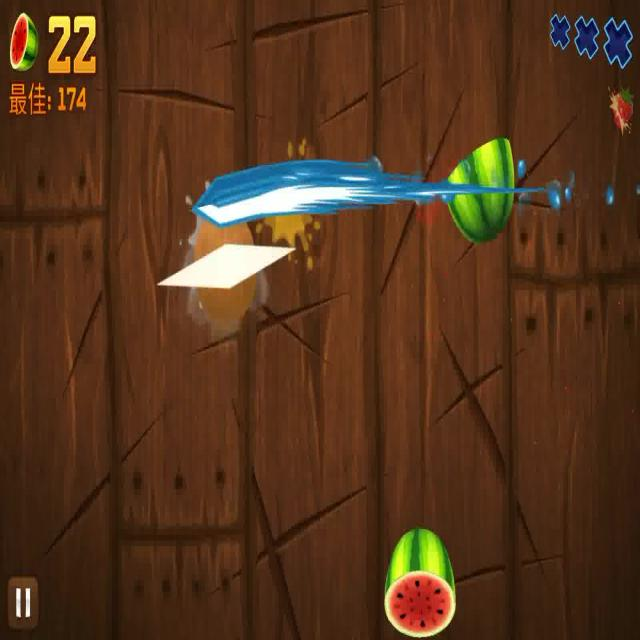fruit: (438, 123, 518, 244), (384, 521, 459, 640)
